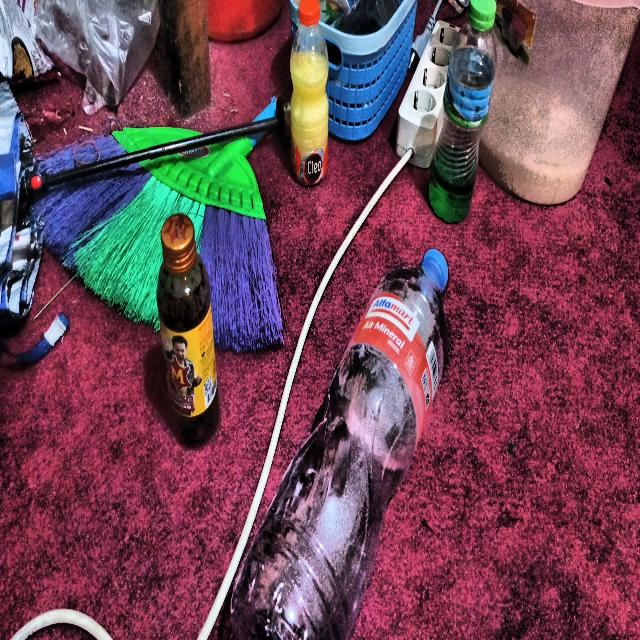Bottle: (218, 244, 450, 636), (152, 206, 223, 454), (427, 0, 497, 226), (282, 0, 336, 192)
